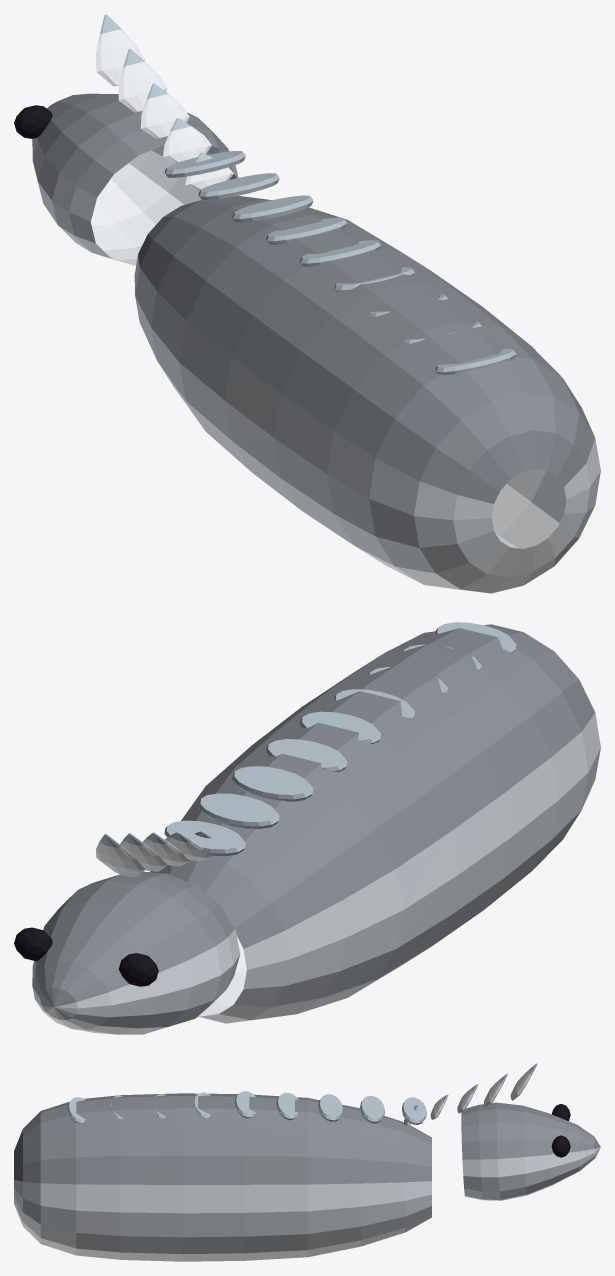
File: CreatureBasilisk.obj
The picture shows the model from 3 angles, top to bottom: view 1: azimuth 30°, elevation 25°; view 2: azimuth 150°, elevation 25°; view 3: azimuth 270°, elevation 25°; orthographic projection. The views are drawn at different scales.
Size of the model in its own units: 1.9 by 2.35 by 6.6.
